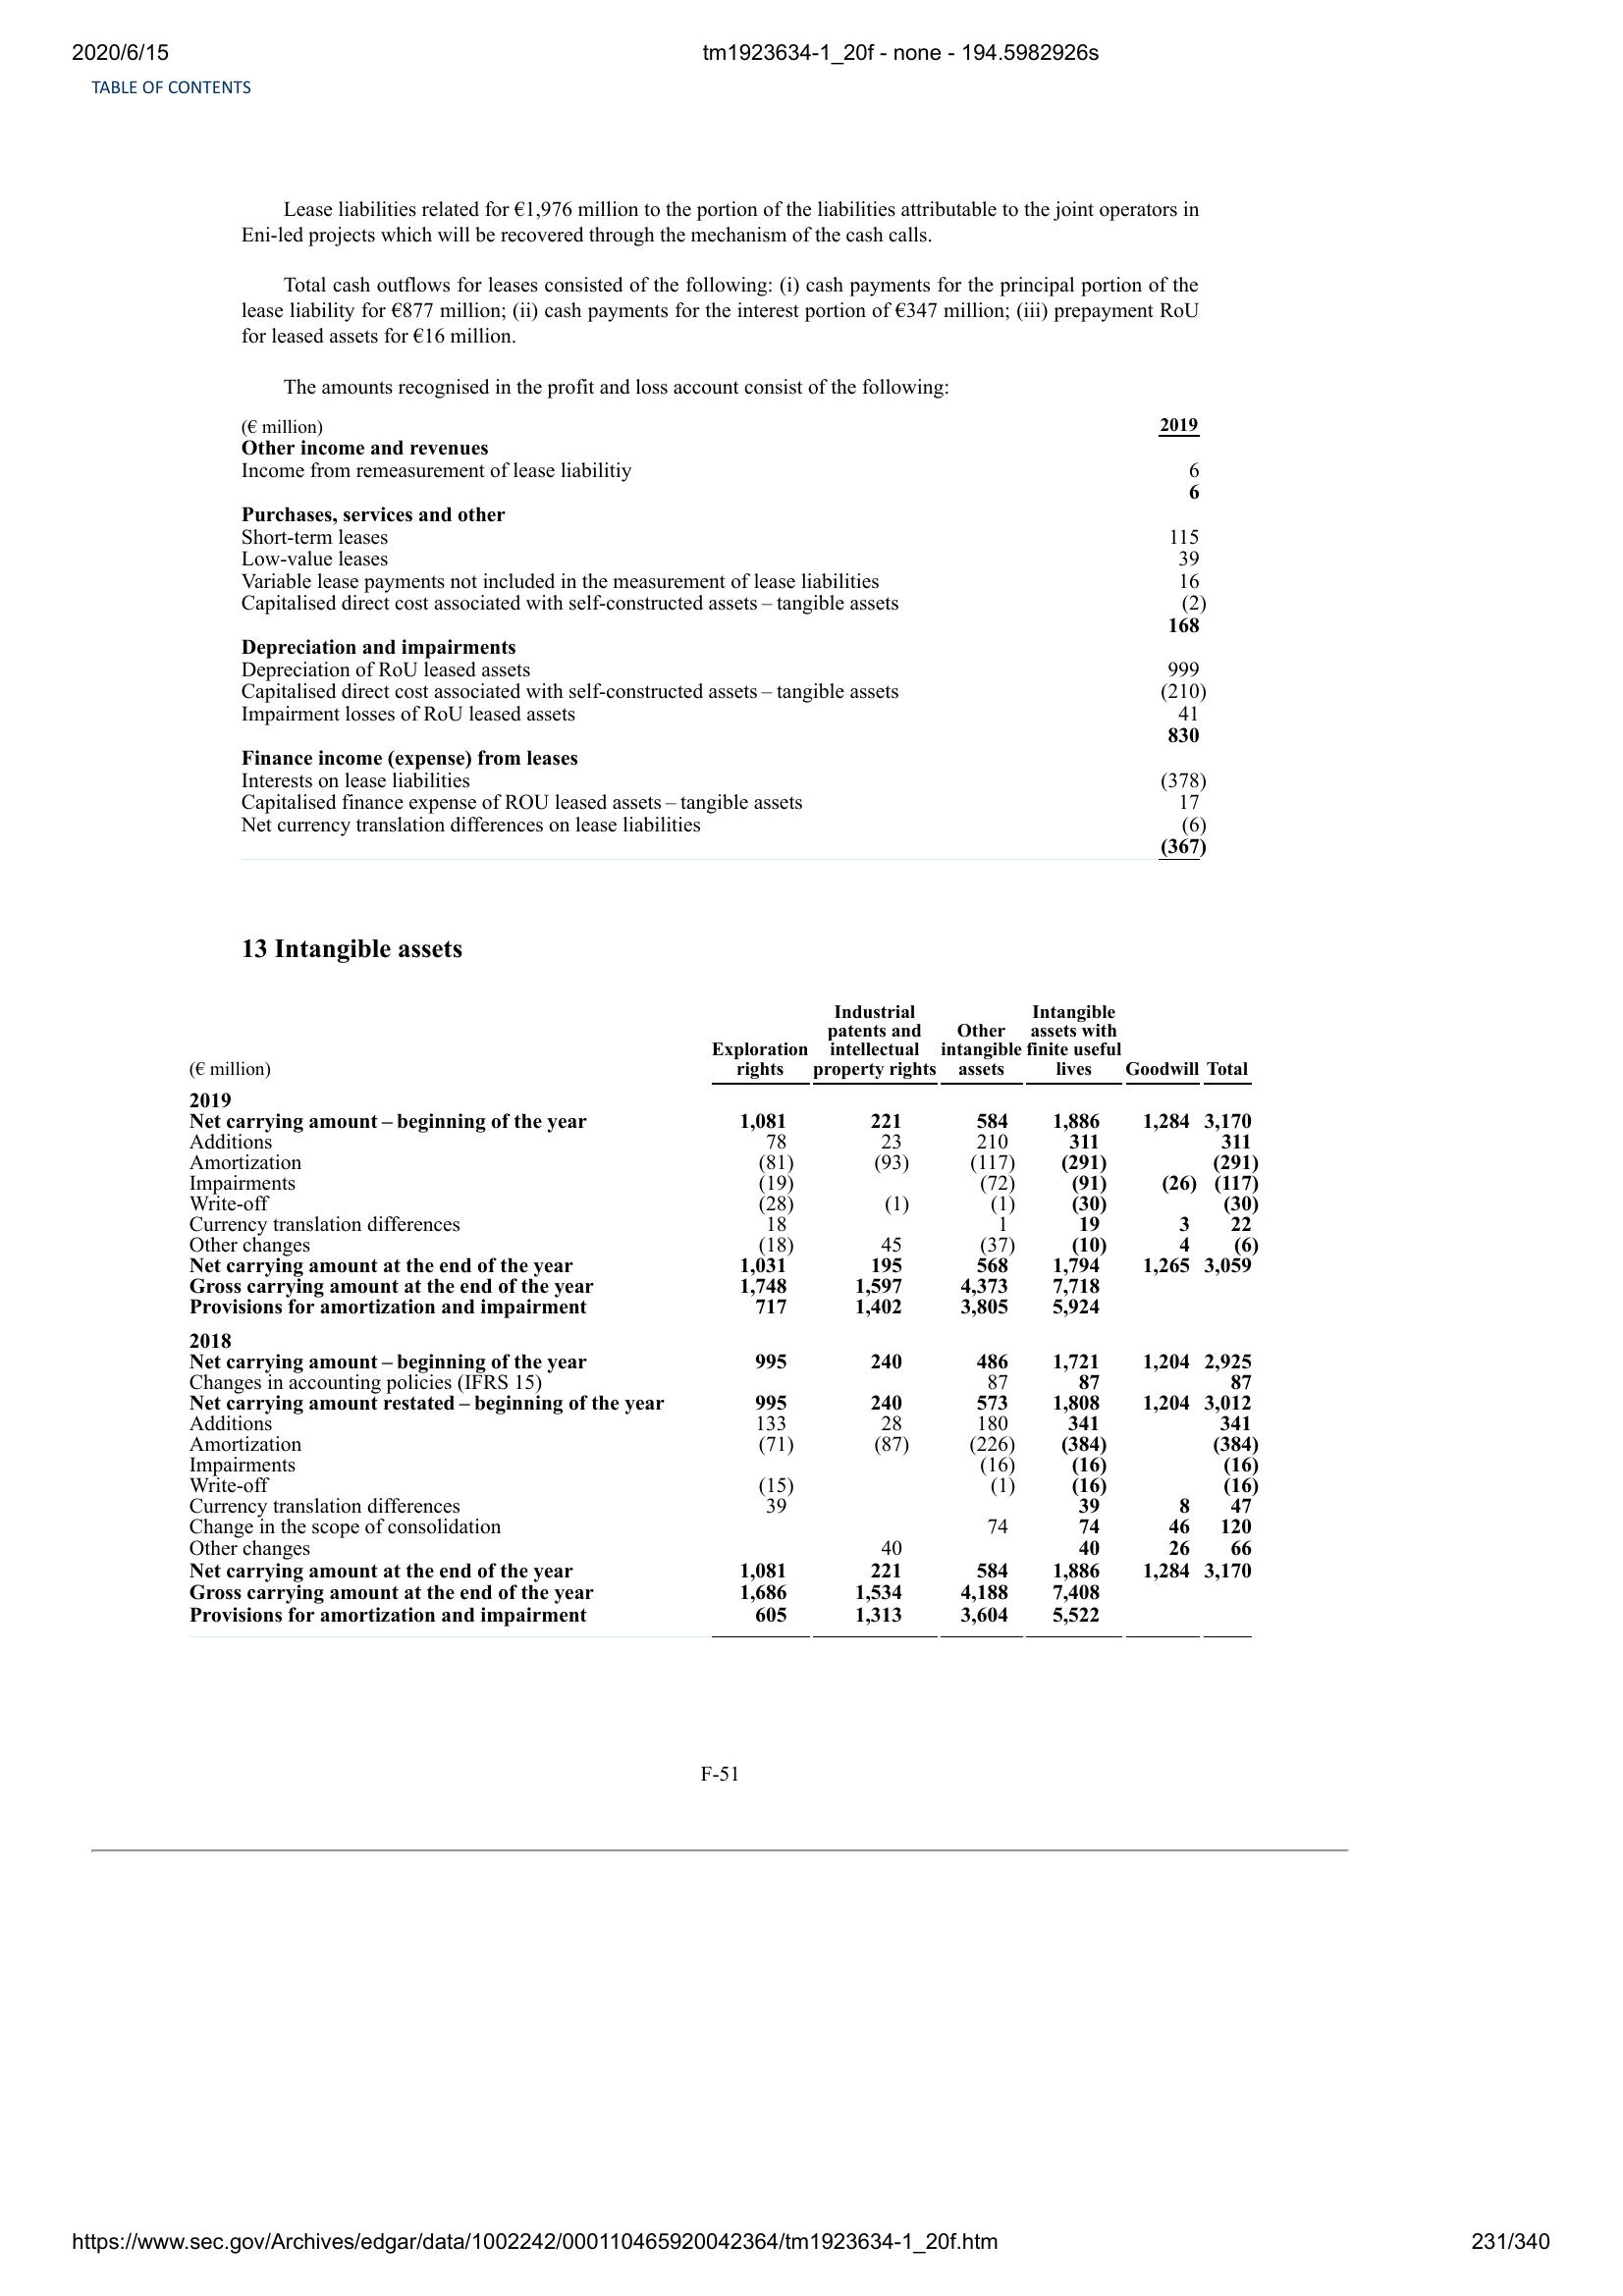table: (186, 994, 1266, 1636), (235, 407, 1219, 867)
